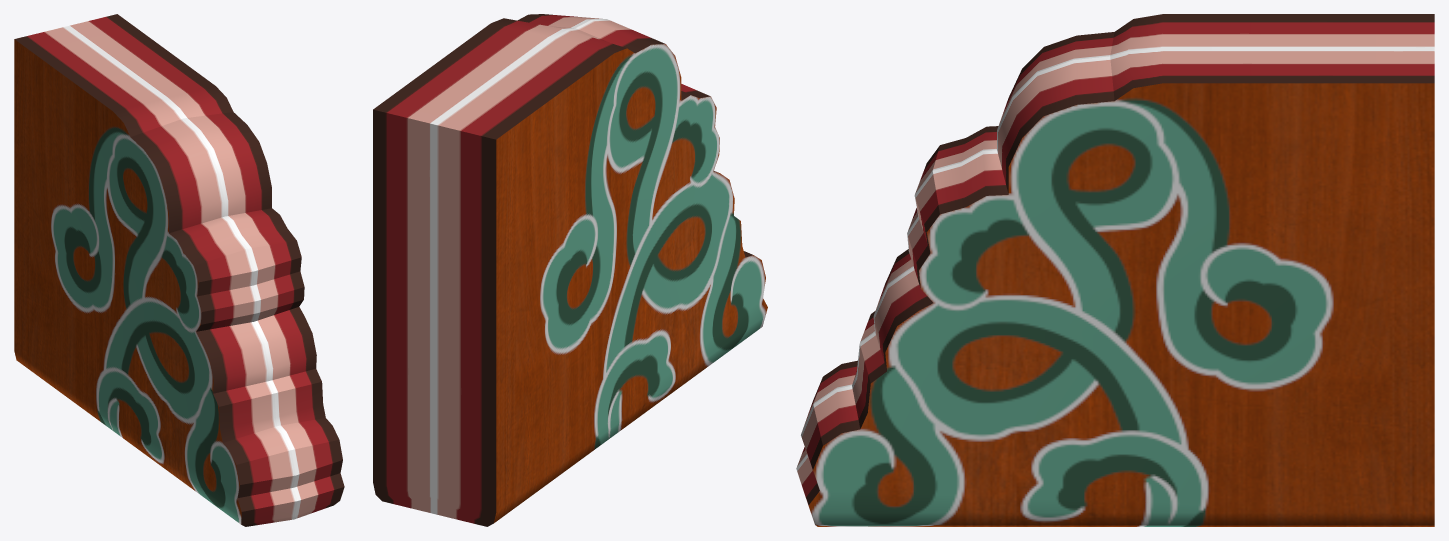
The model's file is SM_Gongpo04C.fbx.
The picture shows the model from 3 angles, left to right: view 1: azimuth 30°, elevation 25°; view 2: azimuth 150°, elevation 25°; view 3: azimuth 270°, elevation 25°; orthographic projection. The views are drawn at different scales.
Visible parts, largest first — view 1: SM_Gongpo04C; view 2: SM_Gongpo04C; view 3: SM_Gongpo04C.
Boxes of the visible parts, <box> form: SM_Gongpo04C: <box>14,14,344,526</box>; SM_Gongpo04C: <box>373,14,767,526</box>; SM_Gongpo04C: <box>796,14,1434,526</box>.
Size of the model in its own units: 12.58 by 48.98 by 37.98.
